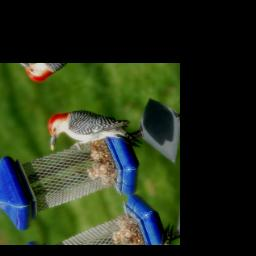Woodpecker: (37, 87, 149, 184)
